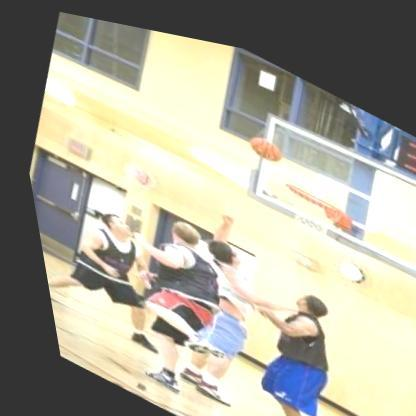basketball: (240, 118, 287, 162)
